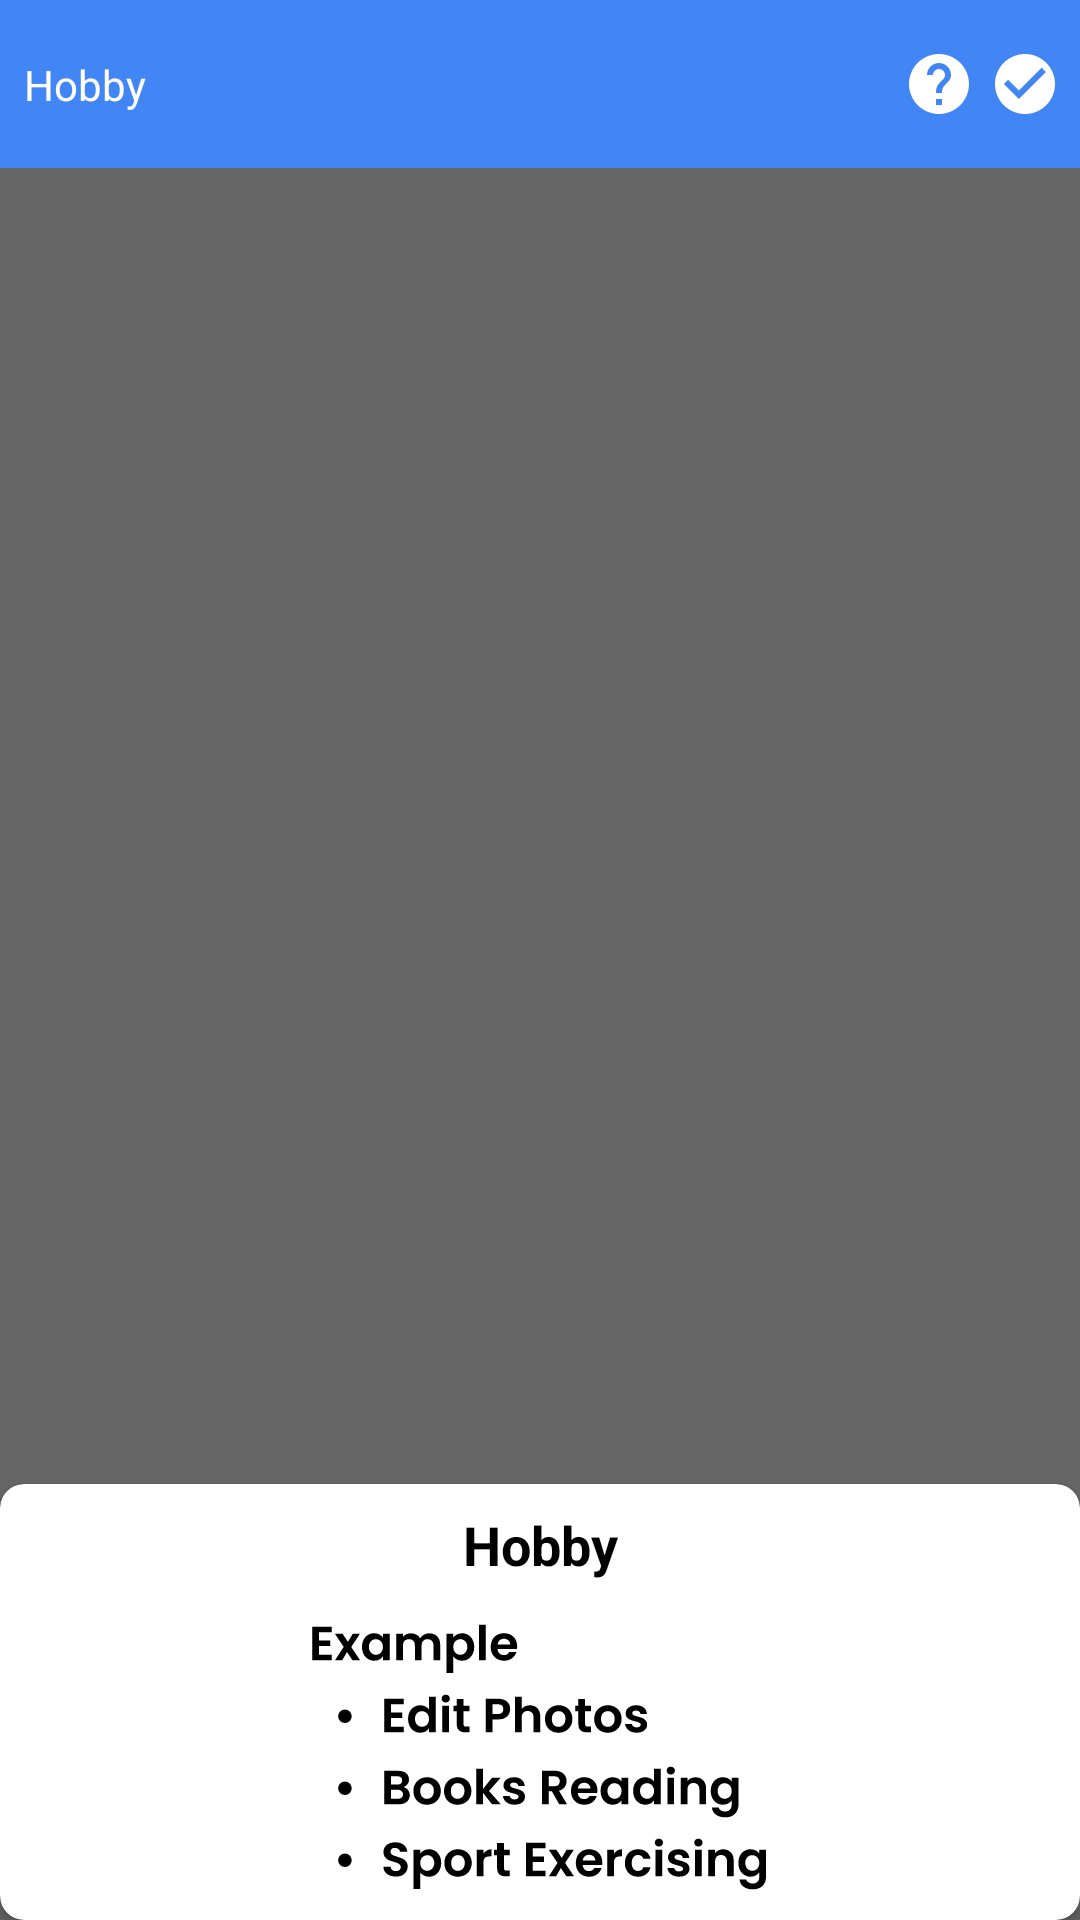

Icon click points for this 1080x1920 phone screenshot, format (x,y):
check: (1025,84)
help: (939,84)
